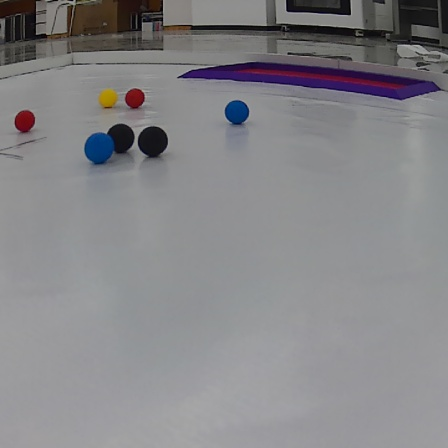black: (138, 125, 168, 158), (108, 121, 139, 151)
blue: (82, 133, 118, 168), (224, 99, 251, 129)
red: (125, 86, 150, 111), (13, 109, 36, 133)
red_aim: (183, 56, 438, 103)
yellow: (99, 88, 117, 109)
